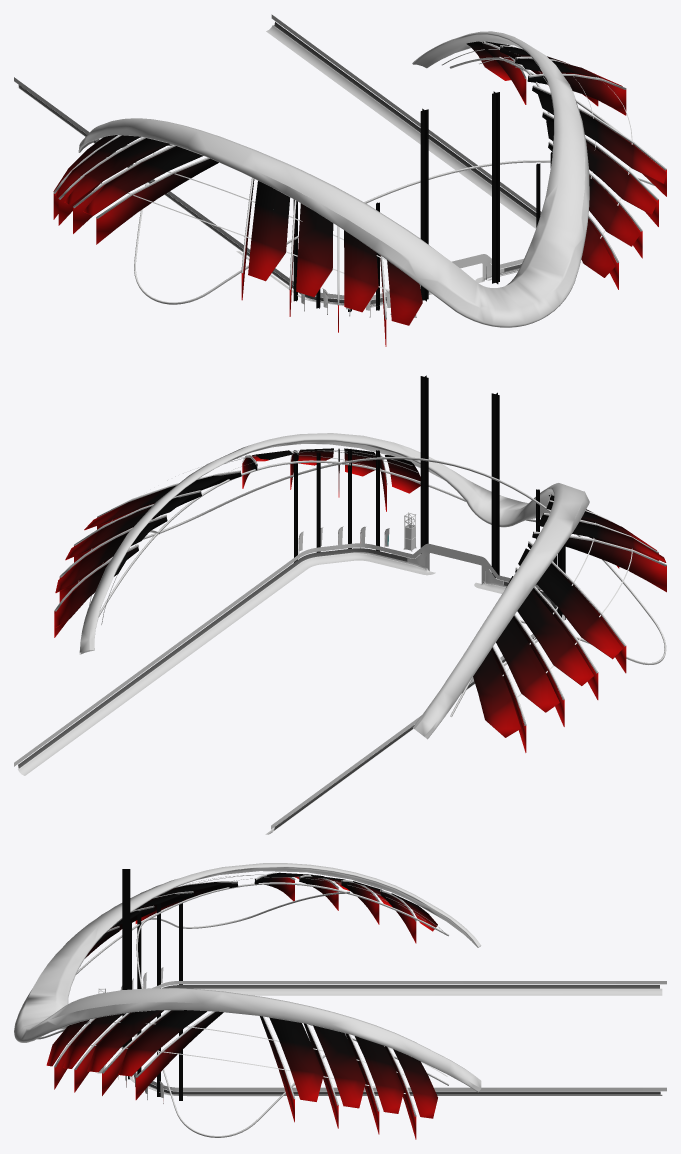
The model's file is Arena_GameSource.fbx.
The picture shows the model from 3 angles, top to bottom: view 1: azimuth 30°, elevation 25°; view 2: azimuth 150°, elevation 25°; view 3: azimuth 270°, elevation 25°; orthographic projection. The views are drawn at different scales.
Parts seen in each view (by area): view 1: Arena; view 2: Arena; view 3: Arena.
Boxes of the visible parts, x1=… form: Arena: x1=14, y1=14, x2=666, y2=346; Arena: x1=14, y1=375, x2=666, y2=834; Arena: x1=14, y1=863, x2=666, y2=1139.
Size of the model in its own units: 169 by 58.25 by 212.
